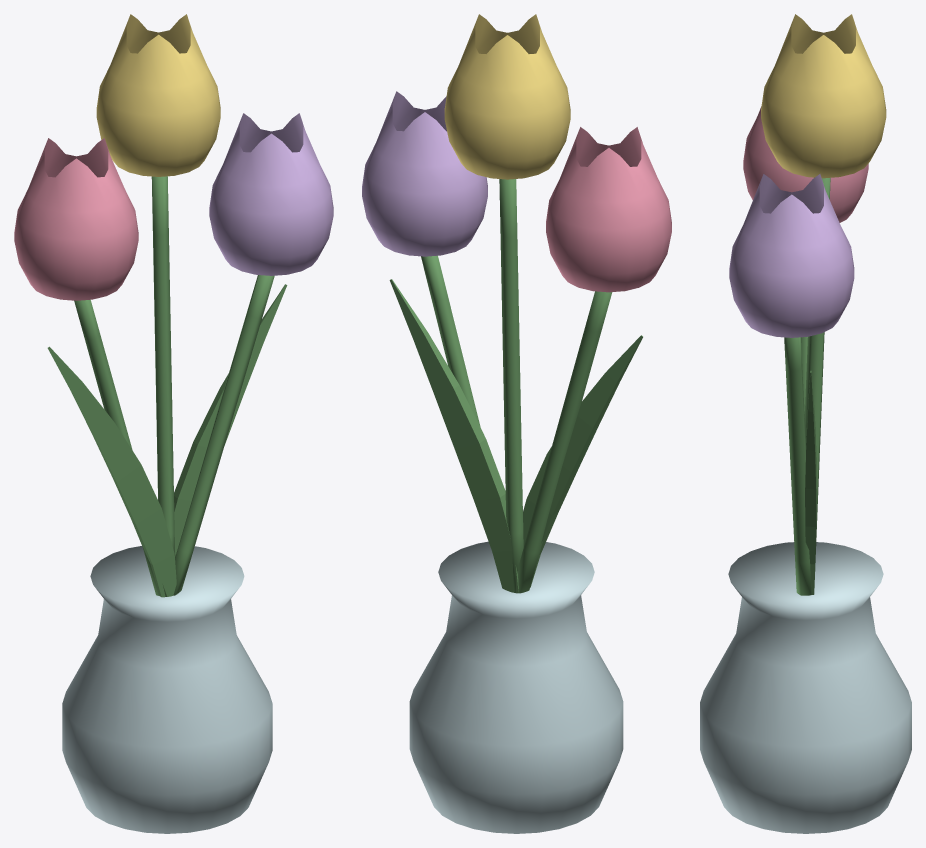
The model's file is tulips.glb.
3 views of the same model, side by side, from view 1: azimuth 30°, elevation 25°; view 2: azimuth 150°, elevation 25°; view 3: azimuth 270°, elevation 25° (orthographic).
Parts seen in each view (by area): view 1: Vase, Tulip_Head, Tulip_Head.002, Tulip_Head.001, Tulip_Leaf, Tulip_Stem.001, Tulip_Stem.002, Tulip_Leaf.001, Tulip_Stem; view 2: Vase, Tulip_Head.001, Tulip_Head, Tulip_Head.002, Tulip_Leaf.001, Tulip_Stem.001, Tulip_Stem, Tulip_Leaf, Tulip_Stem.002; view 3: Vase, Tulip_Head.002, Tulip_Head.001, Tulip_Stem.002, Tulip_Head, Tulip_Leaf.001, Tulip_Stem.001.
Part boxes in pixels (x1,y1,x2,y2): Vase: (62, 546, 272, 833); Tulip_Head: (14, 138, 138, 300); Tulip_Head.002: (209, 113, 333, 275); Tulip_Head.001: (96, 14, 220, 176); Tulip_Leaf: (47, 346, 177, 597); Tulip_Stem.001: (151, 176, 175, 558); Tulip_Stem.002: (173, 275, 274, 595); Tulip_Leaf.001: (174, 284, 287, 556); Tulip_Stem: (74, 299, 166, 596); Vase: (409, 541, 623, 833); Tulip_Head.001: (444, 14, 570, 179); Tulip_Head: (546, 127, 671, 292); Tulip_Head.002: (362, 91, 487, 256); Tulip_Leaf.001: (389, 279, 518, 593); Tulip_Stem.001: (499, 179, 523, 592); Tulip_Stem: (518, 291, 612, 593); Tulip_Leaf: (523, 335, 642, 587); Tulip_Stem.002: (421, 255, 480, 426); Vase: (700, 542, 911, 833); Tulip_Head.002: (729, 174, 854, 337); Tulip_Head.001: (761, 14, 886, 178); Tulip_Stem.002: (784, 337, 811, 595); Tulip_Head: (743, 106, 868, 222); Tulip_Leaf.001: (805, 371, 816, 594); Tulip_Stem.001: (804, 177, 830, 587).
Bounding box in the file's own units: 0.098 × 0.243 × 0.06.
